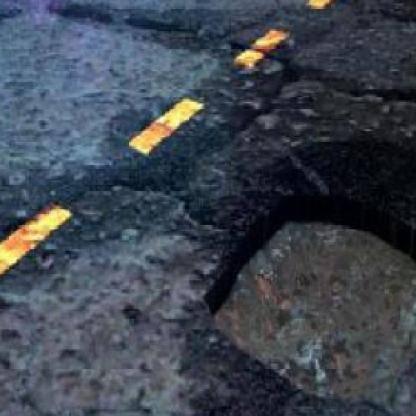pothole: (200, 191, 416, 409)
